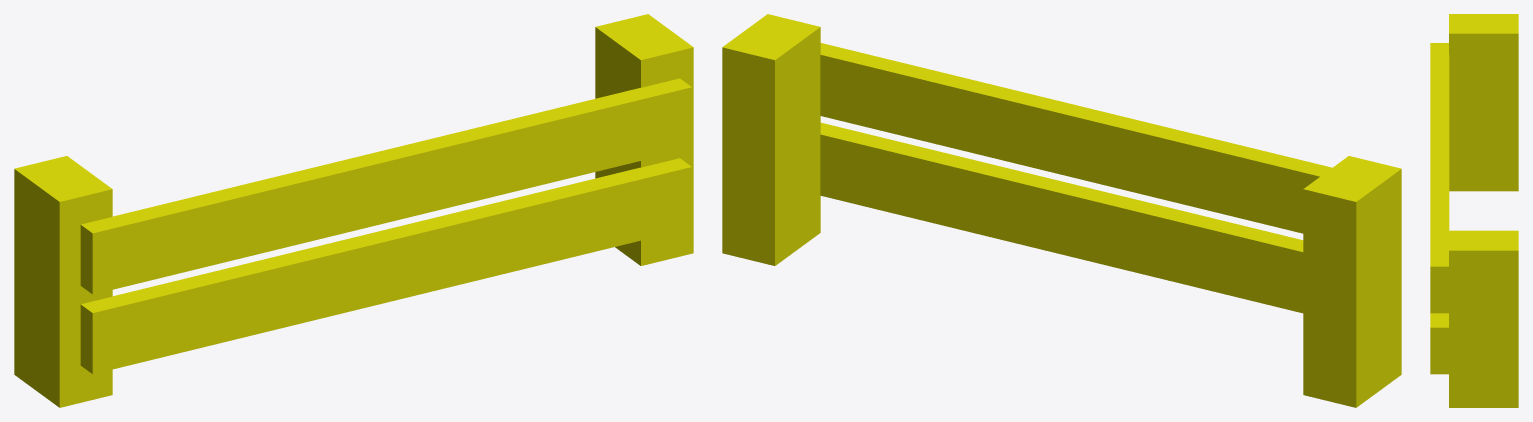
The picture shows the model from 3 angles, left to right: view 1: azimuth 30°, elevation 25°; view 2: azimuth 150°, elevation 25°; view 3: azimuth 270°, elevation 25°; orthographic projection. The views are drawn at different scales.
Parts seen in each view (by area): view 1: fence; view 2: fence; view 3: fence.
Part boxes in pixels (box(x1,y1,x2,y2)): fence: box(14, 14, 693, 407); fence: box(722, 14, 1401, 407); fence: box(1430, 14, 1518, 407).
Bounding box in the file's own units: 4.27 × 1.32 × 0.6719.
Materials: 1 (1 with a texture image).
